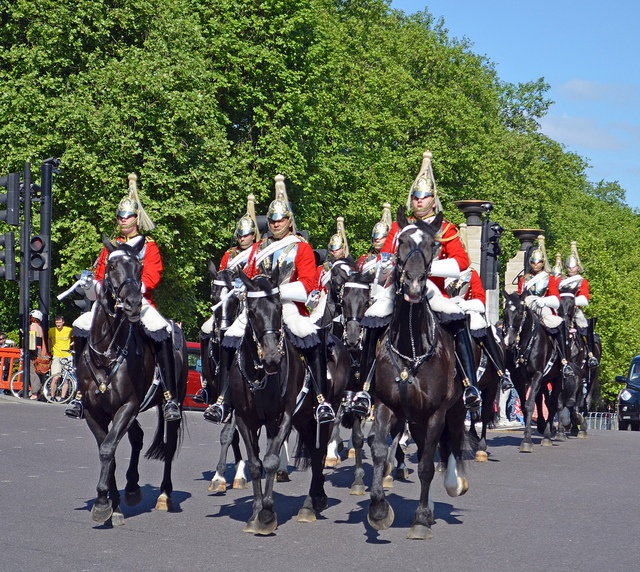non-vehicle: (42, 349, 76, 403), (9, 369, 23, 399)
